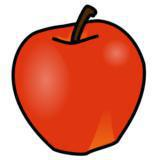apple: (10, 4, 146, 156)
